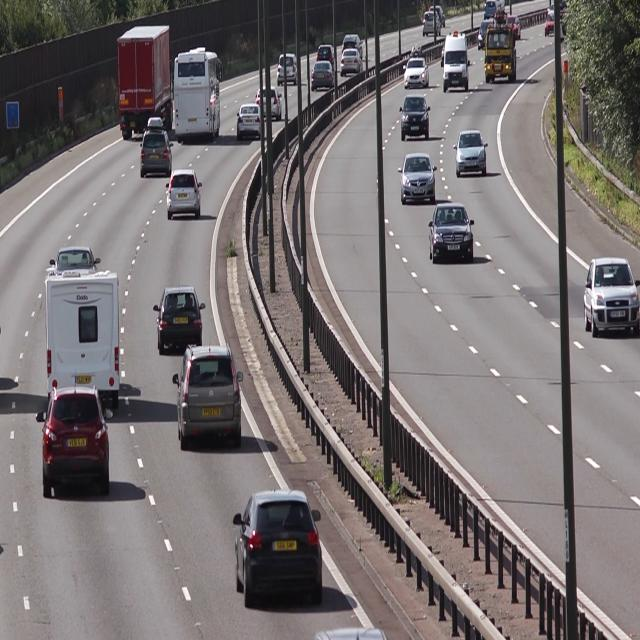Car: (44, 268, 128, 406), (235, 492, 326, 606), (38, 392, 114, 496), (172, 342, 244, 448), (117, 23, 174, 139), (583, 248, 640, 342), (174, 45, 224, 144), (154, 286, 205, 354), (430, 200, 476, 266), (484, 4, 518, 83), (166, 166, 204, 222), (398, 152, 438, 205), (140, 116, 172, 178), (452, 129, 490, 181), (442, 28, 471, 92), (400, 94, 432, 143), (403, 41, 431, 91), (237, 101, 265, 142), (254, 83, 284, 121), (277, 50, 300, 88), (311, 59, 335, 91), (341, 45, 364, 77)
